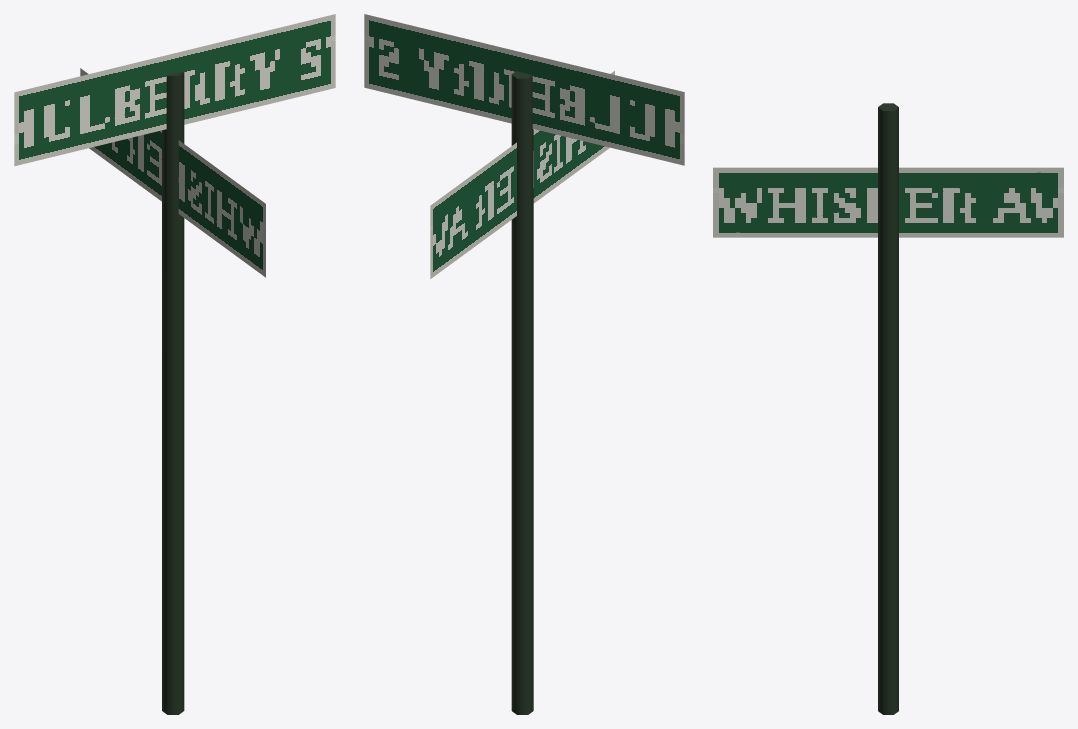
Rendered from Detail_30_10.glb.
3 views of the same model, side by side, from view 1: azimuth 30°, elevation 25°; view 2: azimuth 150°, elevation 25°; view 3: azimuth 270°, elevation 25° (orthographic). The views are drawn at different scales.
Visible parts, largest first — view 1: Detail_30_10; view 2: Detail_30_10; view 3: Detail_30_10.
Part boxes in pixels (x1,y1,x2,y2): Detail_30_10: [14, 14, 335, 714]; Detail_30_10: [364, 14, 684, 714]; Detail_30_10: [713, 103, 1063, 714].
Size of the model in its own units: 2 by 3.92 by 2.
3 materials, 2 textured.
